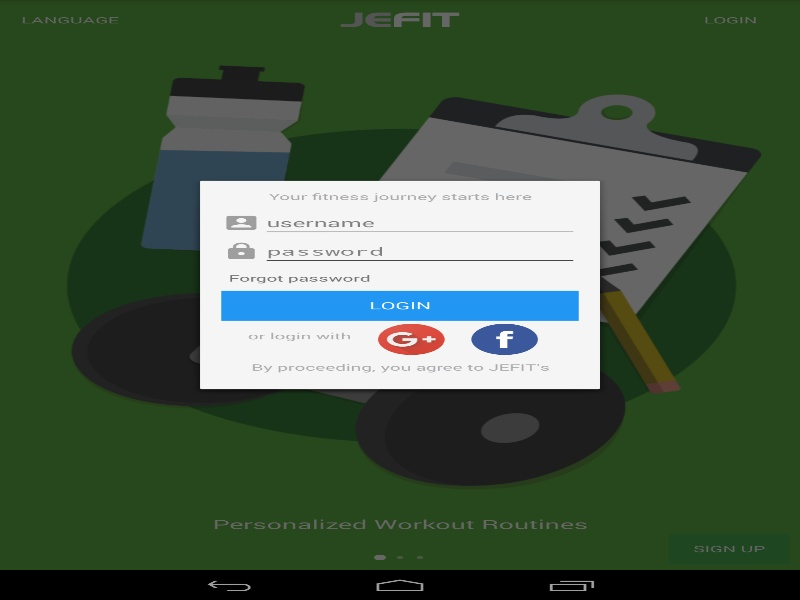Button: (221, 290, 578, 320), (471, 323, 538, 355), (378, 323, 444, 355)
Input: (261, 208, 578, 237), (261, 237, 578, 265)
